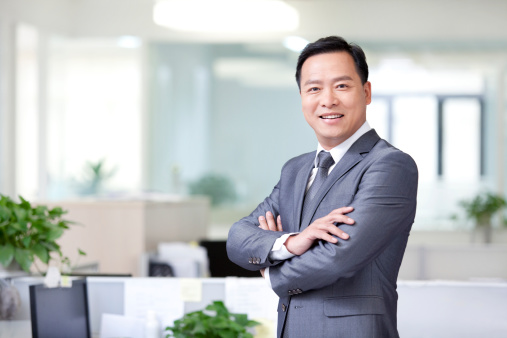em pe: (202, 35, 428, 338)
